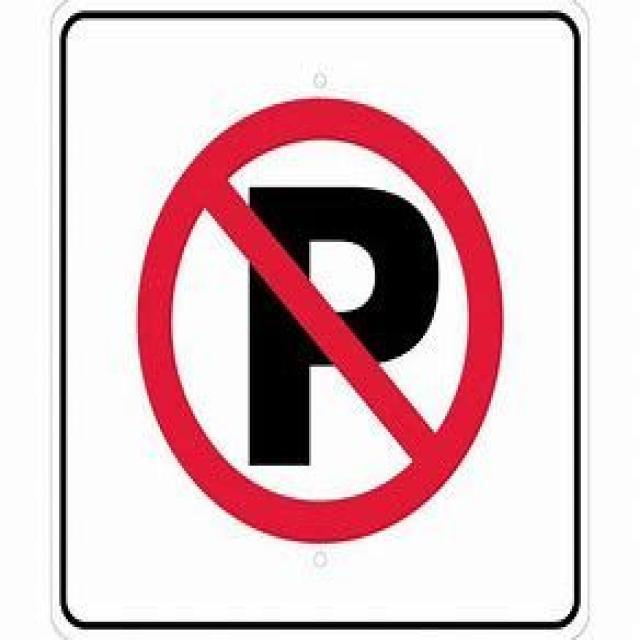no parking: (117, 72, 527, 559)
